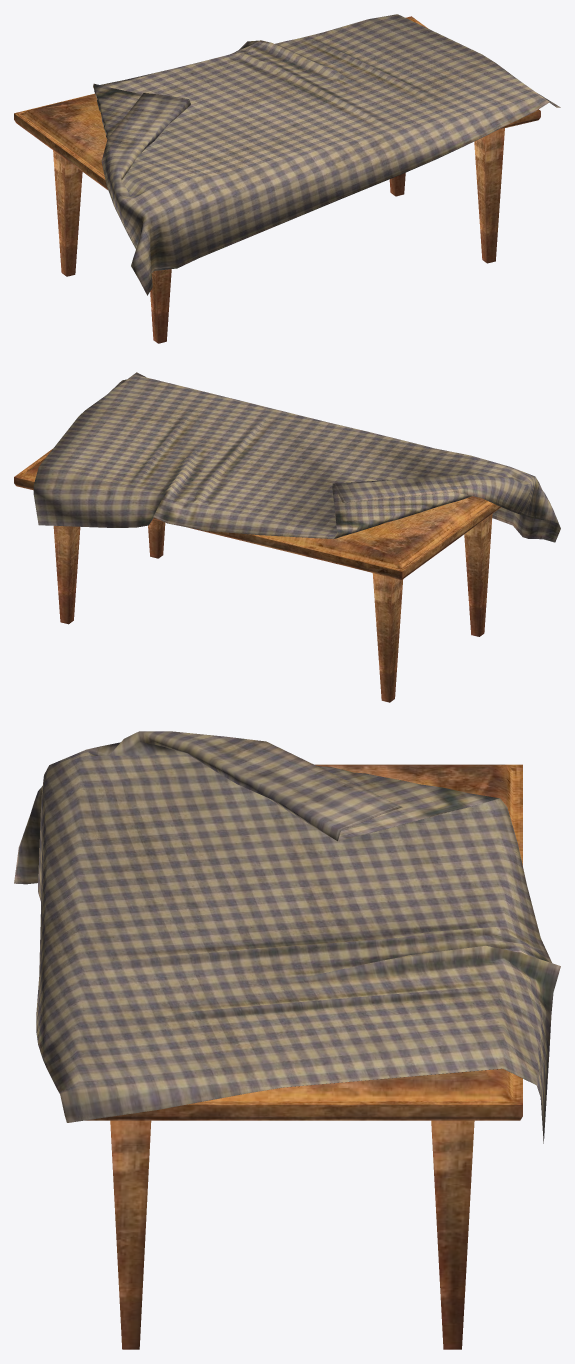
The model's file is dining_table.gltf.
3 views of the same model, one above another, from view 1: azimuth 30°, elevation 25°; view 2: azimuth 150°, elevation 25°; view 3: azimuth 270°, elevation 25° (orthographic). The views are drawn at different scales.
Parts seen in each view (by area): view 1: dining_table_cloth, dining_table; view 2: dining_table_cloth, dining_table; view 3: dining_table_cloth, dining_table.
Part boxes in pixels (x1=…): dining_table_cloth: x1=93, y1=14, x2=560, y2=295; dining_table: x1=14, y1=16, x2=540, y2=343; dining_table_cloth: x1=33, y1=372, x2=560, y2=542; dining_table: x1=14, y1=449, x2=501, y2=702; dining_table_cloth: x1=14, y1=731, x2=560, y2=1143; dining_table: x1=85, y1=764, x2=522, y2=1349.
Bounding box in the file's own units: 2.26 × 0.877 × 1.39.
1 material, 1 textured.
